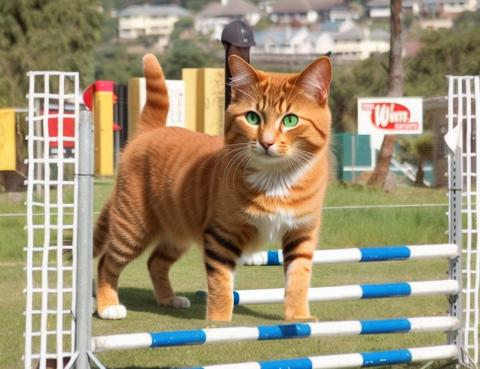cat: (93, 53, 343, 319)
person: (163, 22, 266, 199)
